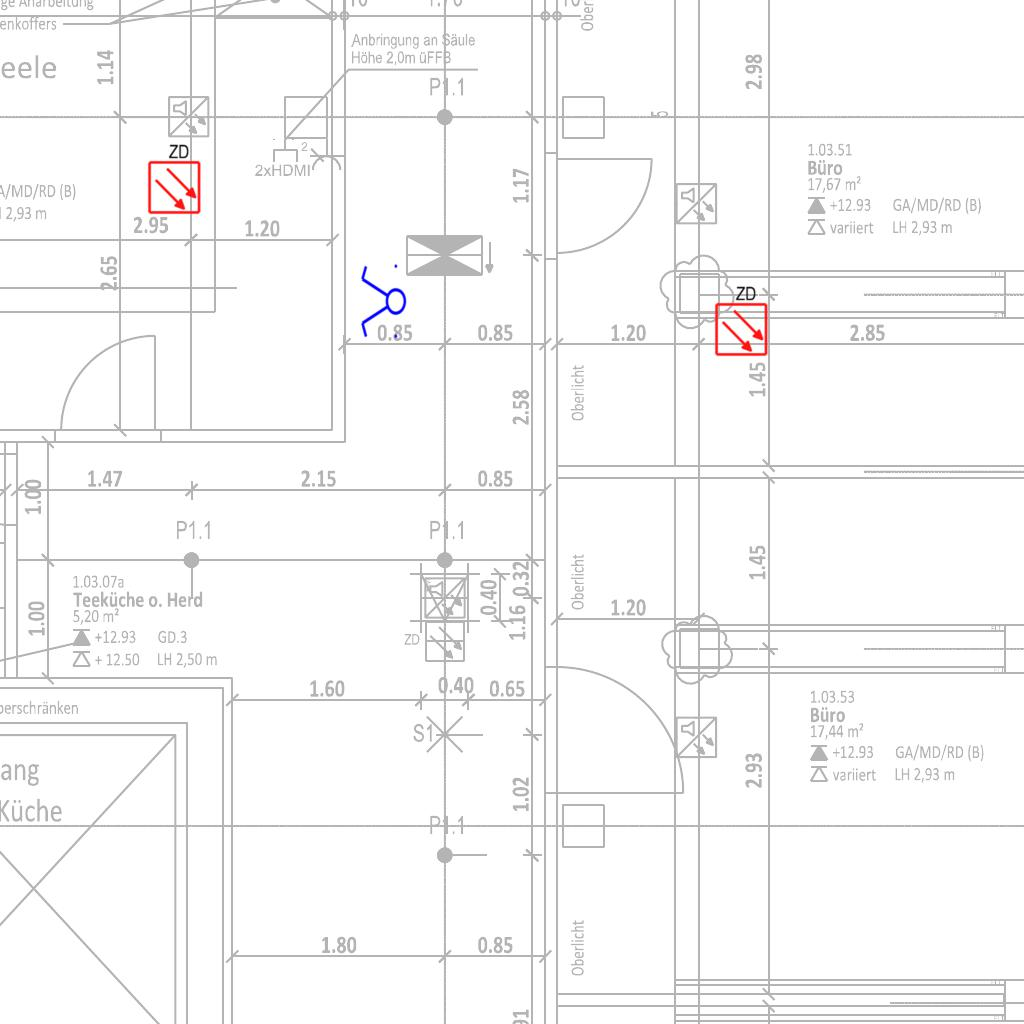Serienschalter: (359, 260, 407, 344)
ZD_Melder_in_Zwischendecke_mit_Revisionsoeffnung_mind_40_x_40_cm: (145, 141, 202, 215), (712, 283, 769, 357)
